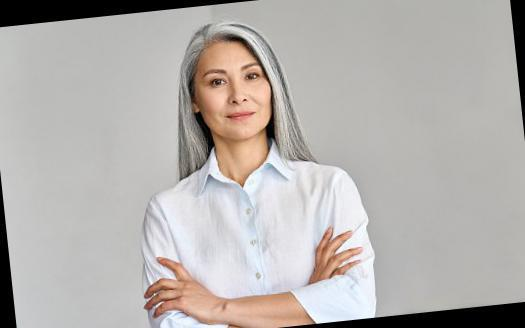Sober: (200, 47, 267, 135)
